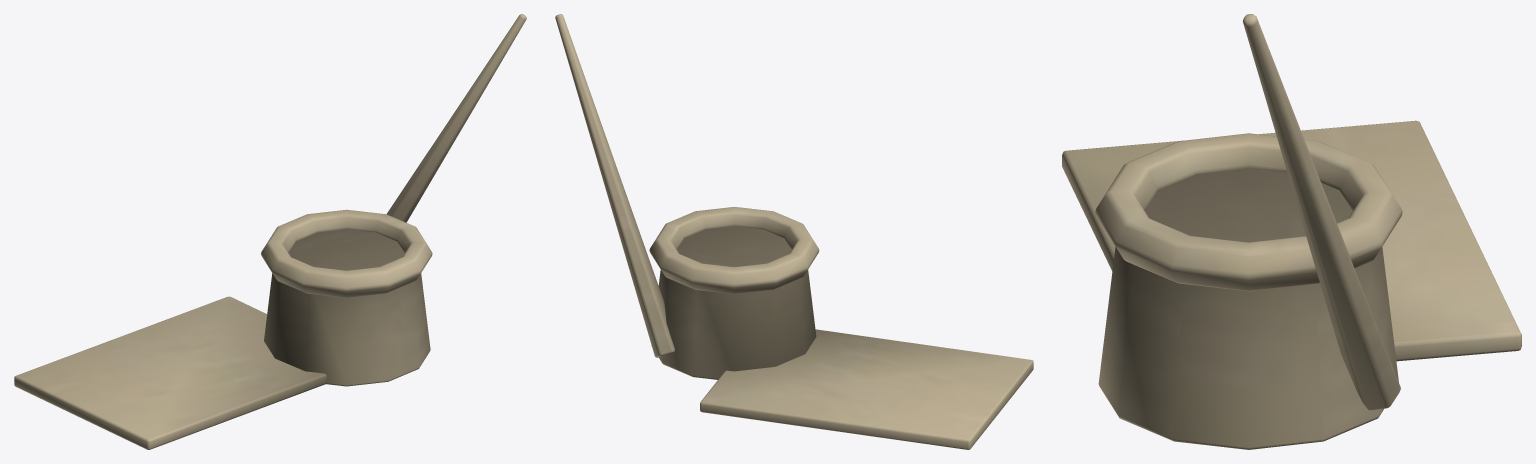
File: p_inkset.glb
The picture shows the model from 3 angles, left to right: view 1: azimuth 30°, elevation 25°; view 2: azimuth 150°, elevation 25°; view 3: azimuth 270°, elevation 25°; orthographic projection. The views are drawn at different scales.
Visible parts, largest first — view 1: inkset; view 2: inkset; view 3: inkset.
Boxes of the visible parts, x1=… form: inkset: x1=14, y1=14, x2=526, y2=449; inkset: x1=555, y1=14, x2=1033, y2=449; inkset: x1=1062, y1=14, x2=1521, y2=449.
Size of the model in its own units: 0.4468 by 0.2699 by 0.2135.
Materials: 1 (1 with a texture image).
